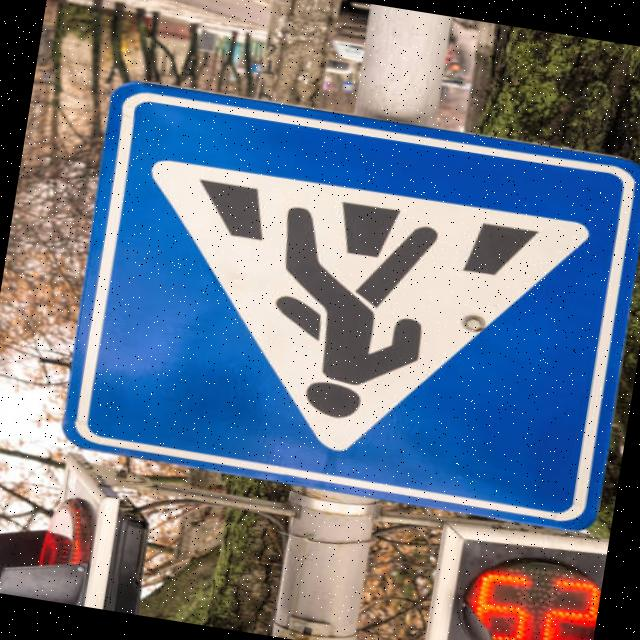crosswalk: (29, 68, 640, 538)
